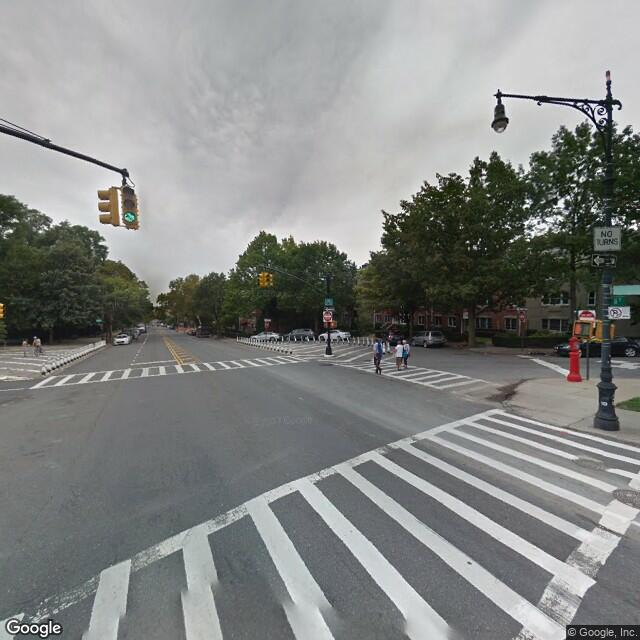litter: (525, 347, 554, 358)
